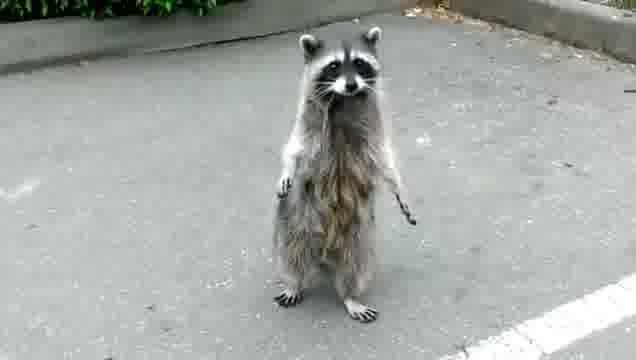raccoon: (275, 25, 417, 323)
